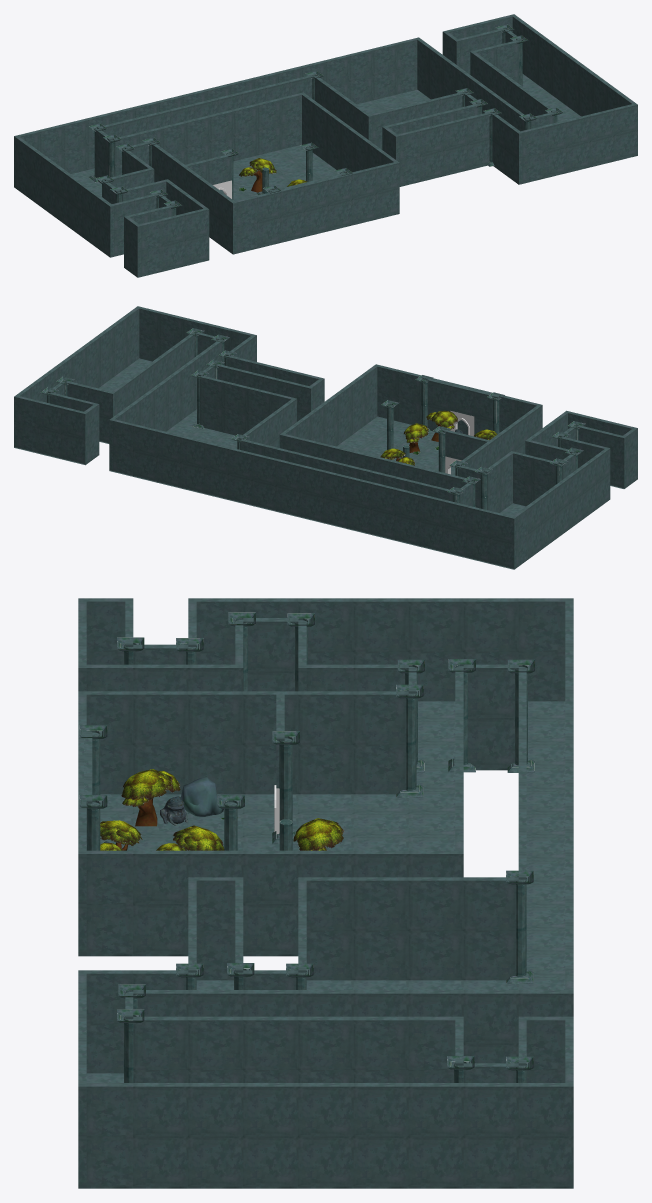
Rendered from map.fbx.
3 views of the same model, one above another, from view 1: azimuth 30°, elevation 25°; view 2: azimuth 150°, elevation 25°; view 3: azimuth 270°, elevation 25° (orthographic). The views are drawn at different scales.
Parts seen in each view (by area): view 1: wall.153|wall_L_map_asset.blend|Dupli|, wall.170|wall_L_map_asset.blend|Dupli|, wall.204|wall_L_map_asset.blend|Dupli|, wall.202|wall_L_map_asset.blend|Dupli|, wall.203|wall_L_map_asset.blend|Dupli|, wall.166|wall_L_map_asset.blend|Dupli|, wall.196|wall_L_map_asset.blend|Dupli|, wall.221|wall_L_map_asset.blend|Dupli|, wall.154|wall_L_map_asset.blend|Dupli|, wall.192|wall_L_map_asset.blend|Dupli|, wall.201|wall_L_map_asset.blend|Dupli|, wall.193|wall_L_map_asset.blend|Dupli| (+110 smaller); view 2: wall.235|wall_L_map_asset.blend|Dupli|, wall.243|wall_L_map_asset.blend|Dupli|, wall.244|wall_L_map_asset.blend|Dupli|, wall.162|wall_L_map_asset.blend|Dupli|, wall.167|wall_L_map_asset.blend|Dupli|, wall.210|wall_L_map_asset.blend|Dupli|, wall.155|wall_L_map_asset.blend|Dupli|, wall.156|wall_L_map_asset.blend|Dupli|, wall.157|wall_L_map_asset.blend|Dupli|, wall.236|wall_L_map_asset.blend|Dupli|, wall.161|wall_L_map_asset.blend|Dupli|, wall.166|wall_L_map_asset.blend|Dupli| (+95 smaller); view 3: wall.015|wall_L_map_asset.blend|Dupli|, wall.019|wall_L_map_asset.blend|Dupli|, wall.022|wall_L_map_asset.blend|Dupli|, wall.033|wall_L_map_asset.blend|Dupli|, wall.036|wall_L_map_asset.blend|Dupli|, wall.037|wall_L_map_asset.blend|Dupli|, wall.049|wall_L_map_asset.blend|Dupli|, wall.062|wall_L_map_asset.blend|Dupli|, wall.147|wall_L_map_asset.blend|Dupli|, wall.064|wall_L_map_asset.blend|Dupli|, wall.066|wall_L_map_asset.blend|Dupli|, wall.089|wall_L_map_asset.blend|Dupli| (+103 smaller).
Part boxes in pixels (x1=…): wall.153|wall_L_map_asset.blend|Dupli|: x1=372, y1=43, x2=397, y2=75; wall.170|wall_L_map_asset.blend|Dupli|: x1=185, y1=115, x2=210, y2=147; wall.204|wall_L_map_asset.blend|Dupli|: x1=160, y1=213, x2=185, y2=245; wall.202|wall_L_map_asset.blend|Dupli|: x1=541, y1=120, x2=566, y2=152; wall.203|wall_L_map_asset.blend|Dupli|: x1=565, y1=115, x2=590, y2=146; wall.166|wall_L_map_asset.blend|Dupli|: x1=62, y1=118, x2=87, y2=150; wall.196|wall_L_map_asset.blend|Dupli|: x1=442, y1=118, x2=467, y2=149; wall.221|wall_L_map_asset.blend|Dupli|: x1=184, y1=208, x2=209, y2=239; wall.154|wall_L_map_asset.blend|Dupli|: x1=348, y1=49, x2=373, y2=80; wall.192|wall_L_map_asset.blend|Dupli|: x1=303, y1=179, x2=328, y2=210; wall.201|wall_L_map_asset.blend|Dupli|: x1=588, y1=109, x2=614, y2=140; wall.193|wall_L_map_asset.blend|Dupli|: x1=280, y1=185, x2=304, y2=216; wall.235|wall_L_map_asset.blend|Dupli|: x1=61, y1=407, x2=87, y2=438; wall.243|wall_L_map_asset.blend|Dupli|: x1=490, y1=511, x2=516, y2=543; wall.244|wall_L_map_asset.blend|Dupli|: x1=490, y1=538, x2=516, y2=568; wall.162|wall_L_map_asset.blend|Dupli|: x1=347, y1=476, x2=372, y2=508; wall.167|wall_L_map_asset.blend|Dupli|: x1=466, y1=505, x2=491, y2=537; wall.210|wall_L_map_asset.blend|Dupli|: x1=199, y1=375, x2=225, y2=407; wall.155|wall_L_map_asset.blend|Dupli|: x1=180, y1=436, x2=205, y2=467; wall.156|wall_L_map_asset.blend|Dupli|: x1=204, y1=441, x2=229, y2=473; wall.157|wall_L_map_asset.blend|Dupli|: x1=228, y1=447, x2=253, y2=479; wall.236|wall_L_map_asset.blend|Dupli|: x1=61, y1=433, x2=87, y2=463; wall.161|wall_L_map_asset.blend|Dupli|: x1=323, y1=471, x2=349, y2=502; wall.166|wall_L_map_asset.blend|Dupli|: x1=442, y1=500, x2=467, y2=531; wall.015|wall_L_map_asset.blend|Dupli|: x1=353, y1=598, x2=408, y2=651; wall.019|wall_L_map_asset.blend|Dupli|: x1=408, y1=598, x2=463, y2=651; wall.022|wall_L_map_asset.blend|Dupli|: x1=463, y1=598, x2=518, y2=651; wall.033|wall_L_map_asset.blend|Dupli|: x1=188, y1=691, x2=243, y2=744; wall.036|wall_L_map_asset.blend|Dupli|: x1=133, y1=691, x2=188, y2=744; wall.037|wall_L_map_asset.blend|Dupli|: x1=353, y1=877, x2=408, y2=930; wall.049|wall_L_map_asset.blend|Dupli|: x1=408, y1=877, x2=463, y2=930; wall.062|wall_L_map_asset.blend|Dupli|: x1=298, y1=1016, x2=353, y2=1069; wall.147|wall_L_map_asset.blend|Dupli|: x1=298, y1=1083, x2=353, y2=1136; wall.064|wall_L_map_asset.blend|Dupli|: x1=243, y1=1016, x2=298, y2=1069; wall.066|wall_L_map_asset.blend|Dupli|: x1=188, y1=1016, x2=243, y2=1069; wall.089|wall_L_map_asset.blend|Dupli|: x1=353, y1=1016, x2=408, y2=1069.
Bounding box in the file's own units: 8400 × 837 × 3600.
